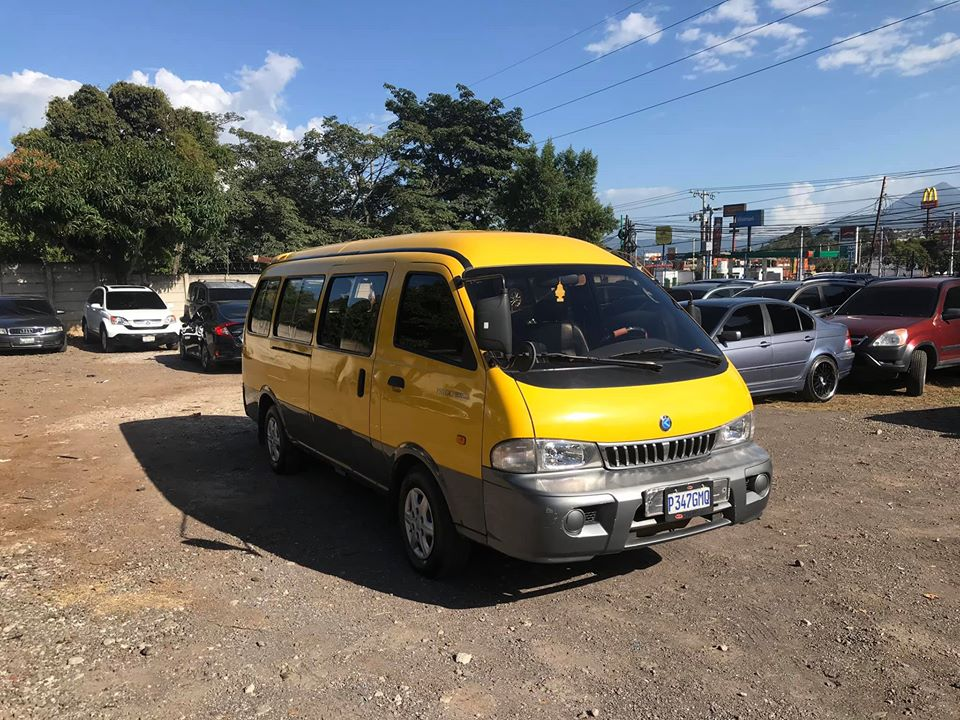bus: (239, 242, 773, 589)
